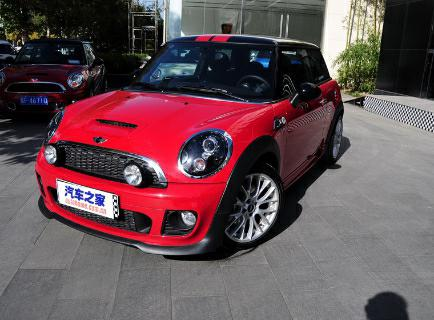MINI: (41, 42, 337, 260)
